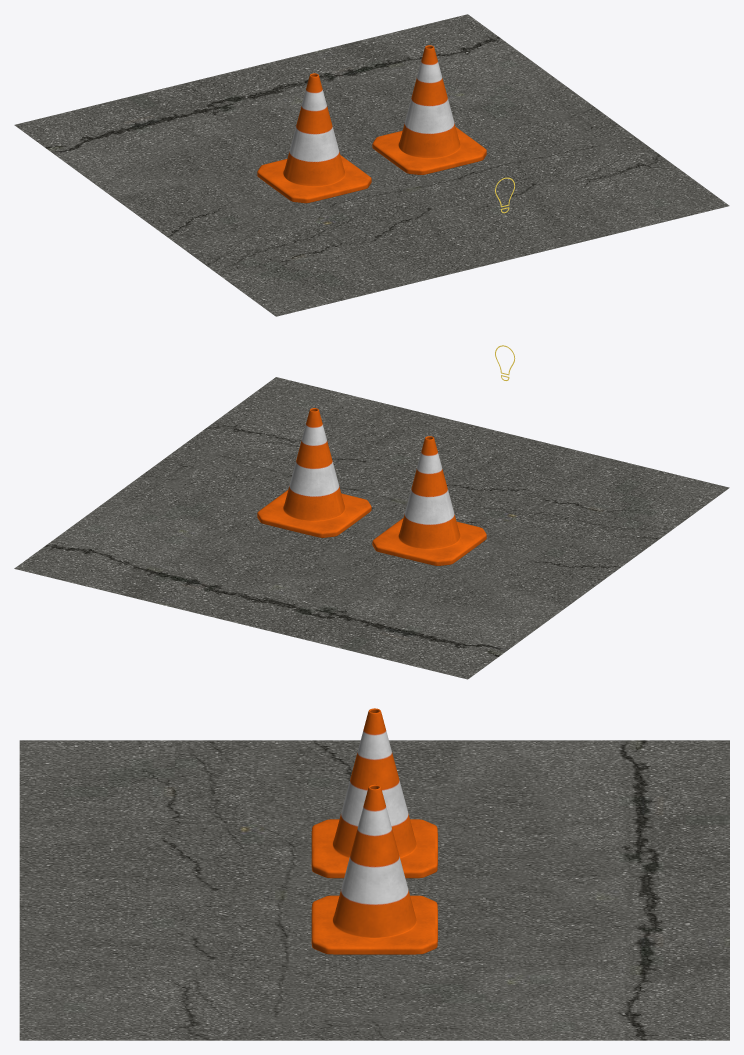
The picture shows the model from 3 angles, top to bottom: view 1: azimuth 30°, elevation 25°; view 2: azimuth 150°, elevation 25°; view 3: azimuth 270°, elevation 25°; orthographic projection. The views are drawn at different scales.
Parts seen in each view (by area): view 1: GroundPlane, Cone Retroreflection, Cone Normal; view 2: GroundPlane, Cone Normal, Cone Retroreflection; view 3: GroundPlane, Cone Normal, Cone Retroreflection.
Boxes of the visible parts, x1,y1,x2,y2 form: GroundPlane: (14, 14, 729, 316); Cone Retroreflection: (257, 73, 371, 203); Cone Normal: (372, 45, 486, 174); GroundPlane: (14, 377, 729, 679); Cone Normal: (257, 408, 371, 537); Cone Retroreflection: (372, 436, 486, 565); GroundPlane: (19, 740, 729, 1040); Cone Normal: (311, 784, 437, 954); Cone Retroreflection: (311, 708, 437, 878).
Size of the model in its own units: 2.36 by 0.5193 by 2.38.
4 materials, 3 textured.
